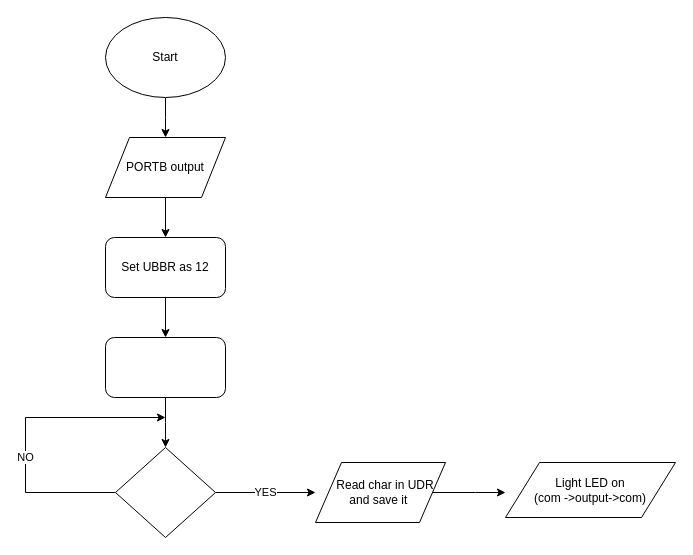
The diagram is 693 pixels wide and 555 high, and some of its shapes have lost their labels. Each missing label, with the centre of its shape:
Any incoming char?: point (165, 492)
Set up enable flag in UCSR for RXEN1: point (165, 367)
